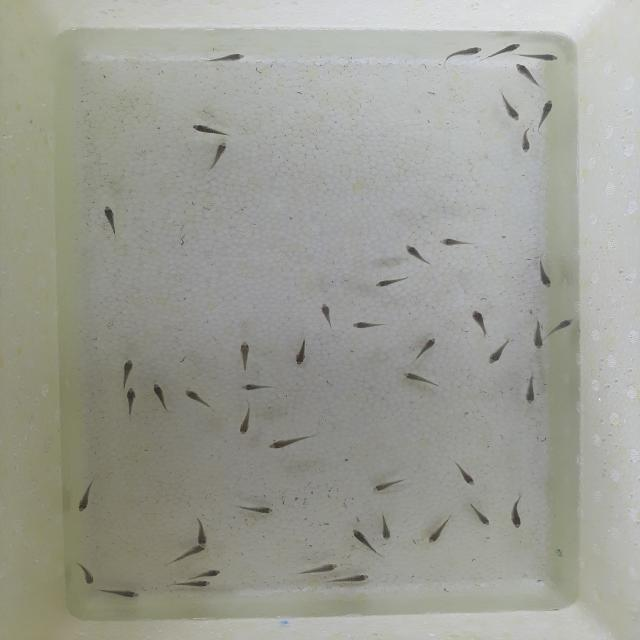fingerling: (199, 138, 236, 170), (508, 489, 529, 528), (100, 204, 124, 237), (180, 386, 213, 409), (511, 63, 542, 87), (164, 577, 217, 591), (236, 406, 259, 436), (92, 587, 144, 600), (368, 276, 409, 292), (354, 530, 378, 557), (74, 483, 93, 517), (466, 309, 494, 332), (268, 437, 310, 452), (400, 243, 431, 263), (237, 338, 256, 370), (427, 520, 451, 545), (192, 514, 210, 547), (199, 52, 248, 64), (151, 384, 172, 412), (452, 460, 475, 485), (470, 505, 495, 528), (486, 342, 508, 368), (502, 94, 522, 122), (76, 557, 96, 585), (175, 546, 210, 562), (124, 383, 141, 415), (351, 318, 389, 332), (415, 334, 437, 358), (494, 41, 525, 57), (439, 235, 472, 250), (189, 123, 230, 135), (186, 567, 227, 579), (373, 478, 407, 492), (447, 47, 481, 61), (538, 265, 557, 290), (549, 316, 577, 332), (522, 373, 536, 405), (516, 128, 532, 156), (295, 338, 308, 372), (538, 98, 554, 124), (402, 373, 432, 386), (532, 50, 562, 62), (336, 577, 374, 586), (120, 358, 132, 386), (296, 566, 336, 574), (380, 517, 392, 543), (534, 323, 544, 352), (318, 301, 331, 323), (241, 507, 276, 515), (243, 385, 280, 391)
